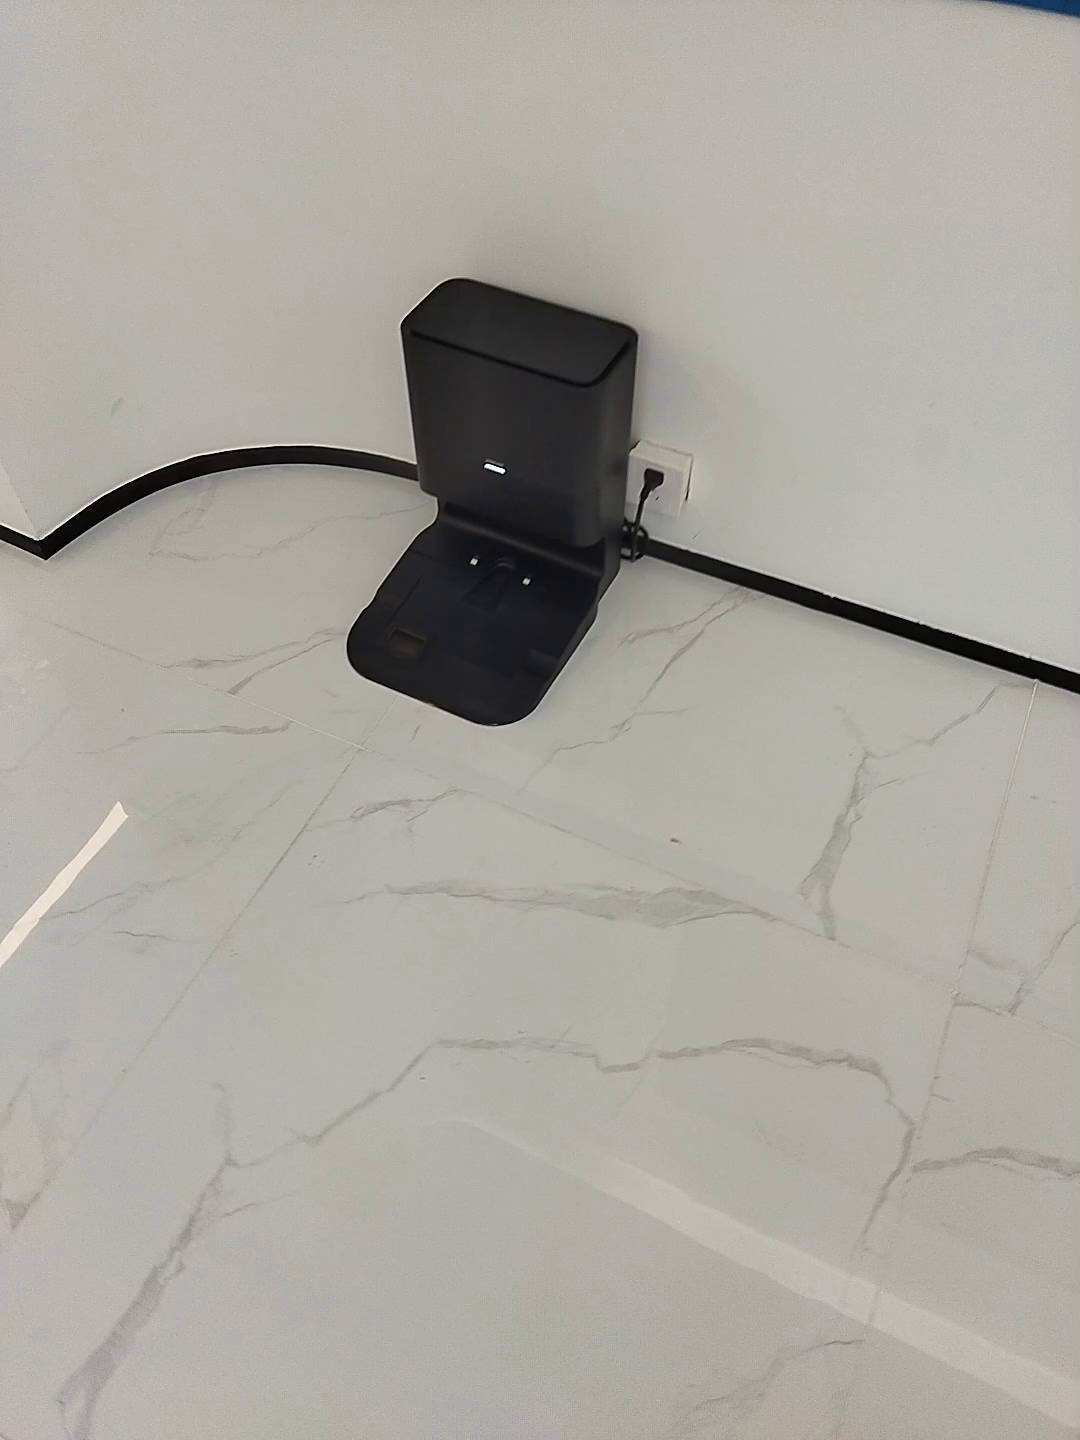dust collecting barrel: (346, 276, 641, 727)
